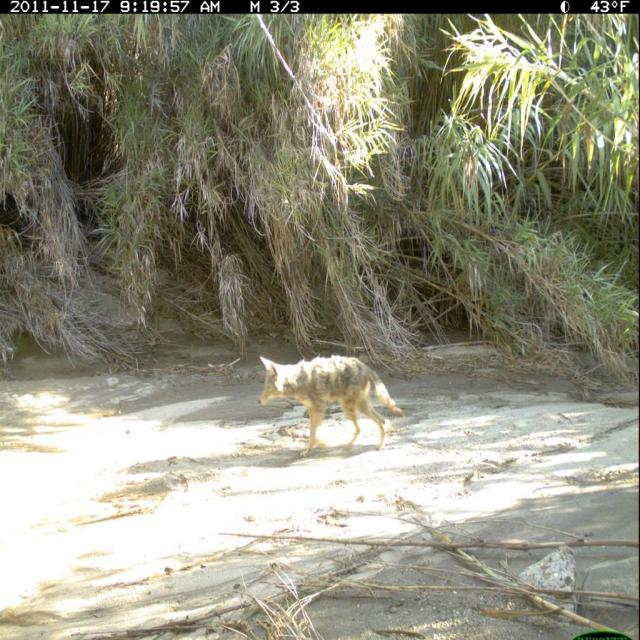coyote: (257, 344, 412, 463)
